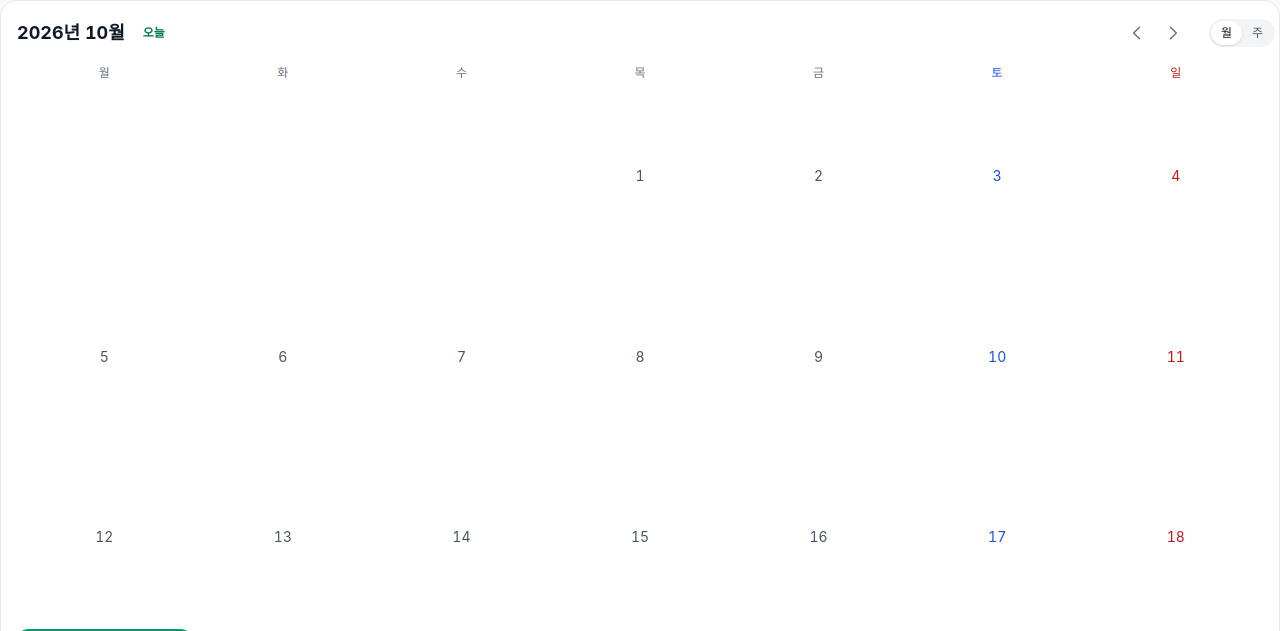
Calendar 헤더 › 이전/다음 버튼 이름이 보기 단위를 따른다
Click the button named "다음 달" at (1173,33), box [1157,17,1189,49]
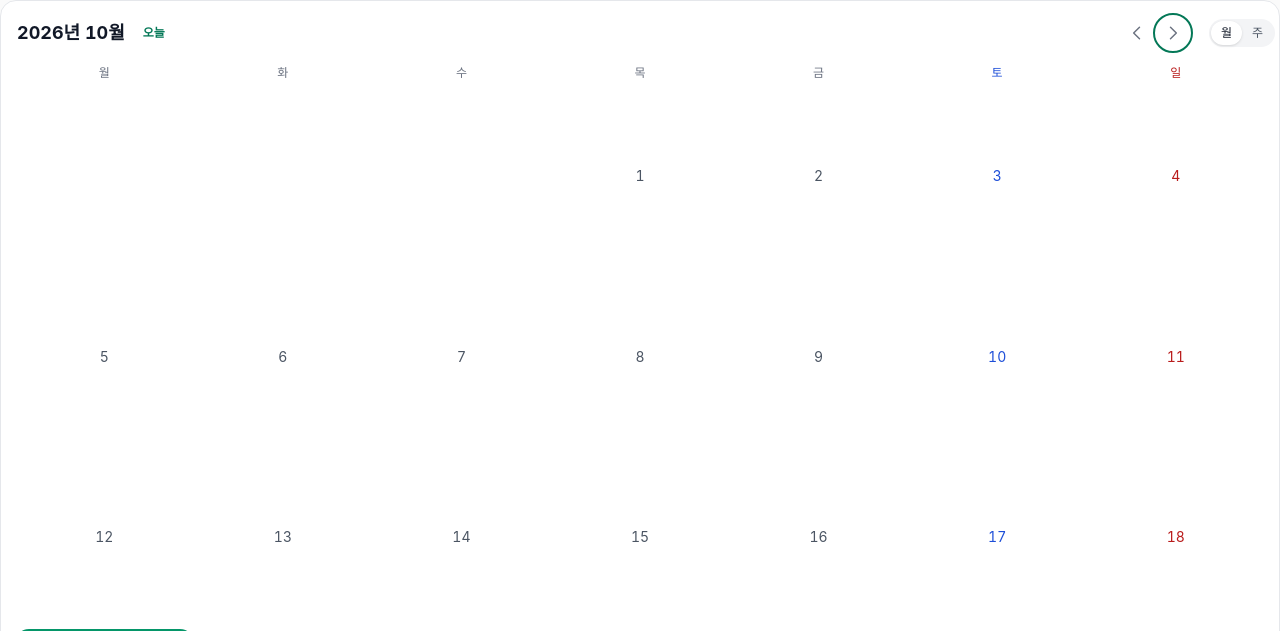
expect the button named "이전 달" is shown: met, box [1121,17,1153,49]
Click the radio button named "주 보기" at (1258,33), box [1242,21,1273,45]
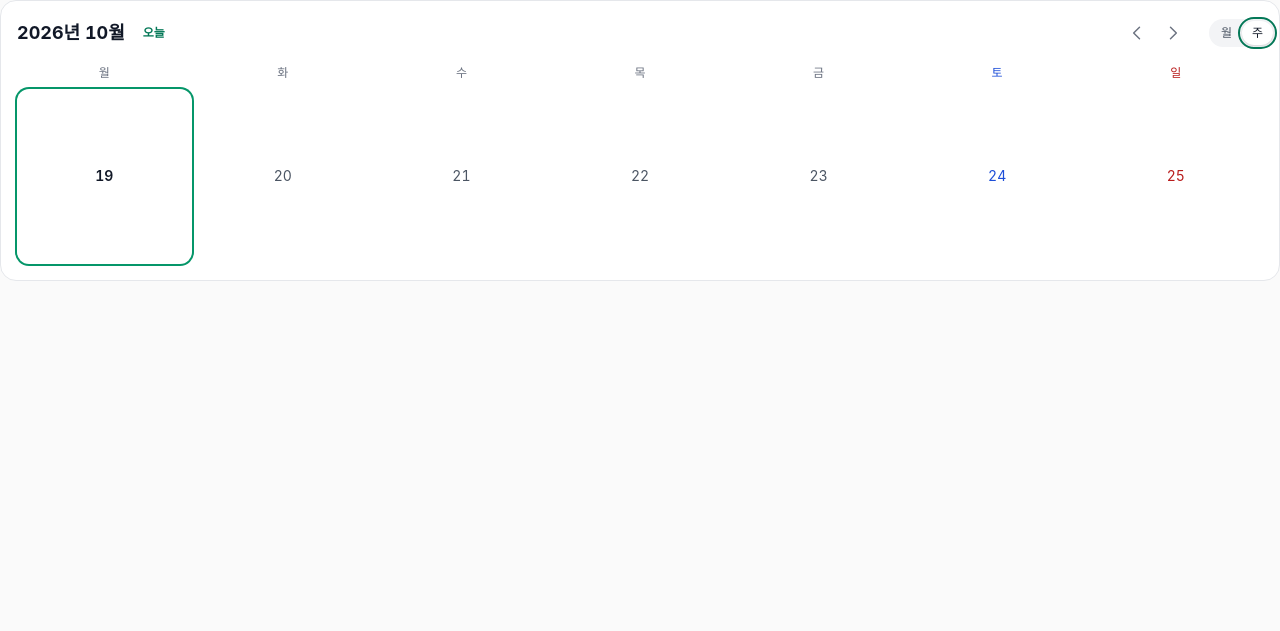
expect the button named "이전 주" is shown: met, box [1121,17,1153,49]
expect the button named "다음 주" is shown: met, box [1157,17,1189,49]
